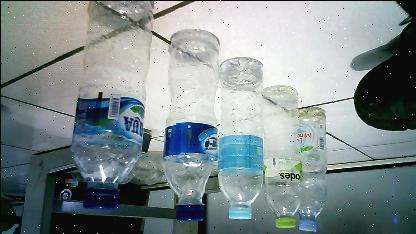Plastic Bottle: (70, 0, 152, 212), (161, 28, 219, 220), (216, 56, 262, 224), (260, 86, 300, 232), (288, 107, 328, 231)
